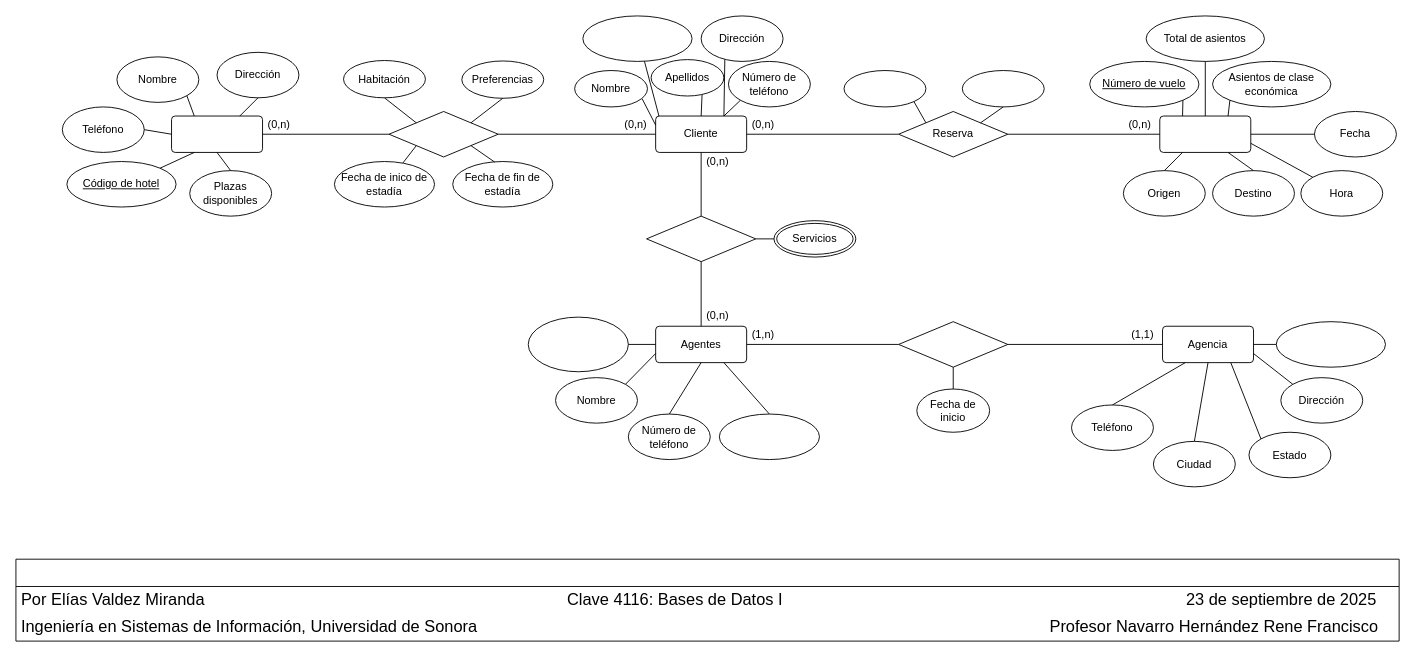
Image size: 1415x657. Some labels were removed from this diagram. The shapes that lost their labels are listed below. From the top down, each one's box as (x1, y1, x2, y2) in pixels, then its label:
(582, 15, 692, 61): Código de cliente
(843, 70, 926, 107): Clase preferida
(961, 70, 1044, 107): Fecha reserva
(171, 115, 263, 152): Hotel
(388, 111, 498, 157): Aloja
(1159, 115, 1251, 152): Vuelo
(646, 215, 756, 262): Asistido por
(527, 316, 628, 372): Fecha de contratación
(898, 321, 1008, 367): Pertenece a
(1275, 321, 1385, 367): Código de agencia
(718, 413, 819, 460): Número de empleado
(15, 558, 1399, 641): Actividad 10 - Diseño de la base de datos de una agencia de viaje
